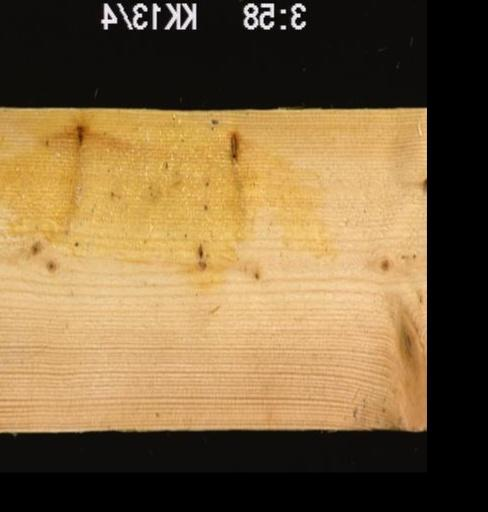small_knot: (365, 236, 424, 300), (420, 176, 424, 193)
